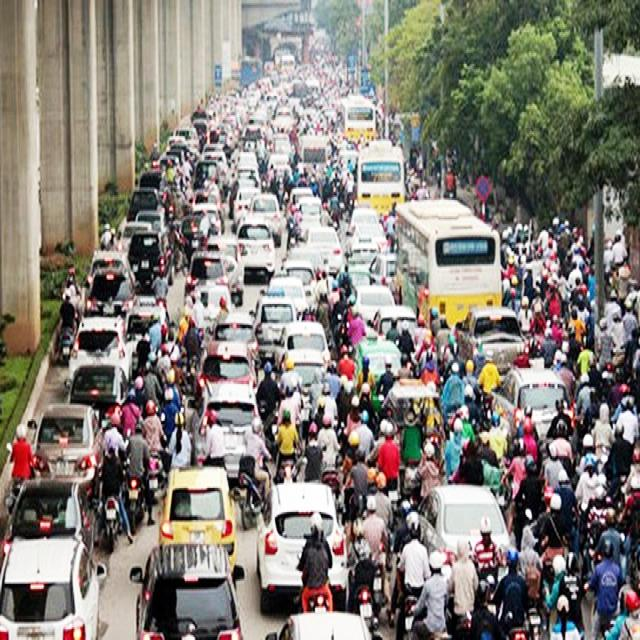Car: (254, 480, 348, 613), (396, 199, 499, 320), (129, 541, 244, 638), (0, 534, 106, 638), (423, 483, 512, 584), (158, 464, 237, 570), (2, 477, 96, 557), (490, 363, 574, 442), (195, 381, 263, 478), (30, 402, 100, 476), (66, 315, 132, 386), (460, 306, 528, 371), (198, 341, 257, 400), (259, 610, 381, 638), (359, 140, 403, 211), (66, 362, 128, 408), (354, 336, 402, 395), (277, 320, 330, 370), (127, 229, 173, 286), (84, 264, 135, 315), (235, 219, 276, 282), (208, 310, 258, 360), (184, 250, 233, 298), (252, 294, 298, 341), (123, 294, 167, 342), (189, 282, 232, 331), (246, 192, 284, 245), (306, 226, 343, 275), (280, 258, 317, 306), (341, 92, 378, 140), (353, 283, 395, 325), (266, 276, 308, 318), (85, 250, 129, 288), (371, 304, 417, 339), (290, 195, 323, 240), (178, 213, 209, 259), (284, 245, 326, 278), (351, 221, 388, 253), (126, 186, 159, 220), (117, 221, 152, 253), (232, 186, 260, 226), (368, 251, 398, 288), (227, 178, 256, 216), (191, 202, 223, 235), (206, 235, 240, 262), (348, 206, 378, 234), (135, 208, 165, 234), (173, 125, 199, 150), (58, 324, 75, 362)
